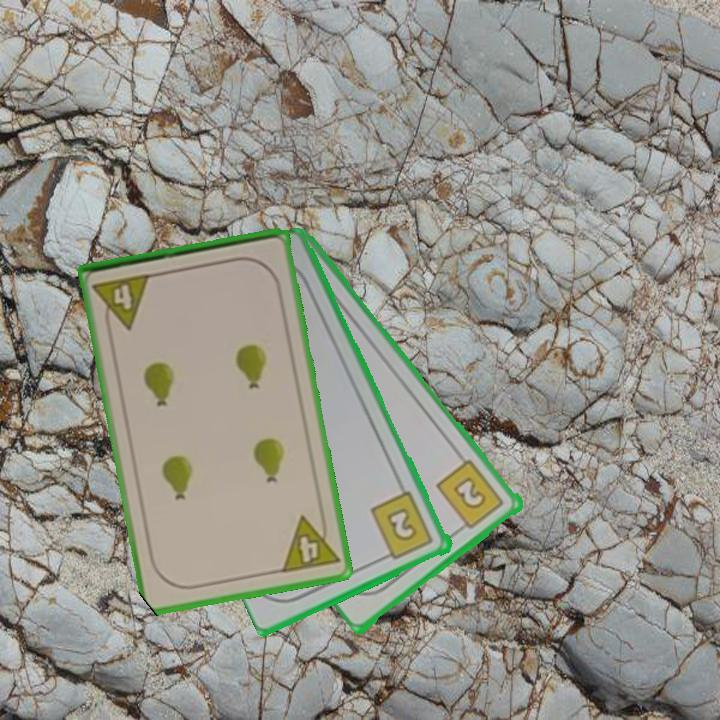2b: (433, 456, 508, 533), (368, 488, 437, 563)
4p: (278, 509, 342, 576), (89, 270, 154, 335)
